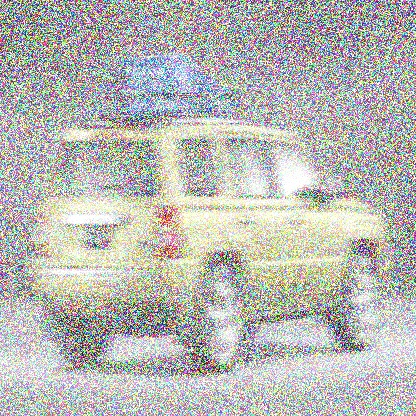Vehicle: (29, 52, 390, 374)
